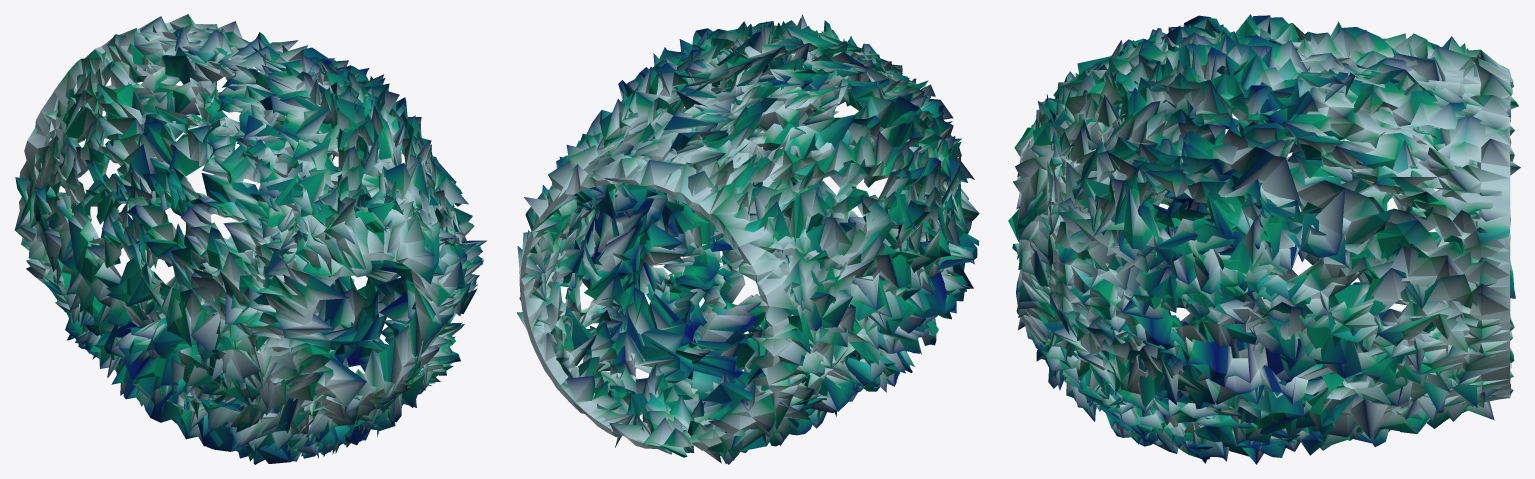
The model's file is lamp_shade_14_final200.obj.
The picture shows the model from 3 angles, left to right: view 1: azimuth 30°, elevation 25°; view 2: azimuth 150°, elevation 25°; view 3: azimuth 270°, elevation 25°; orthographic projection. The views are drawn at different scales.
Size of the model in its own units: 1.36 by 1.37 by 1.56.
